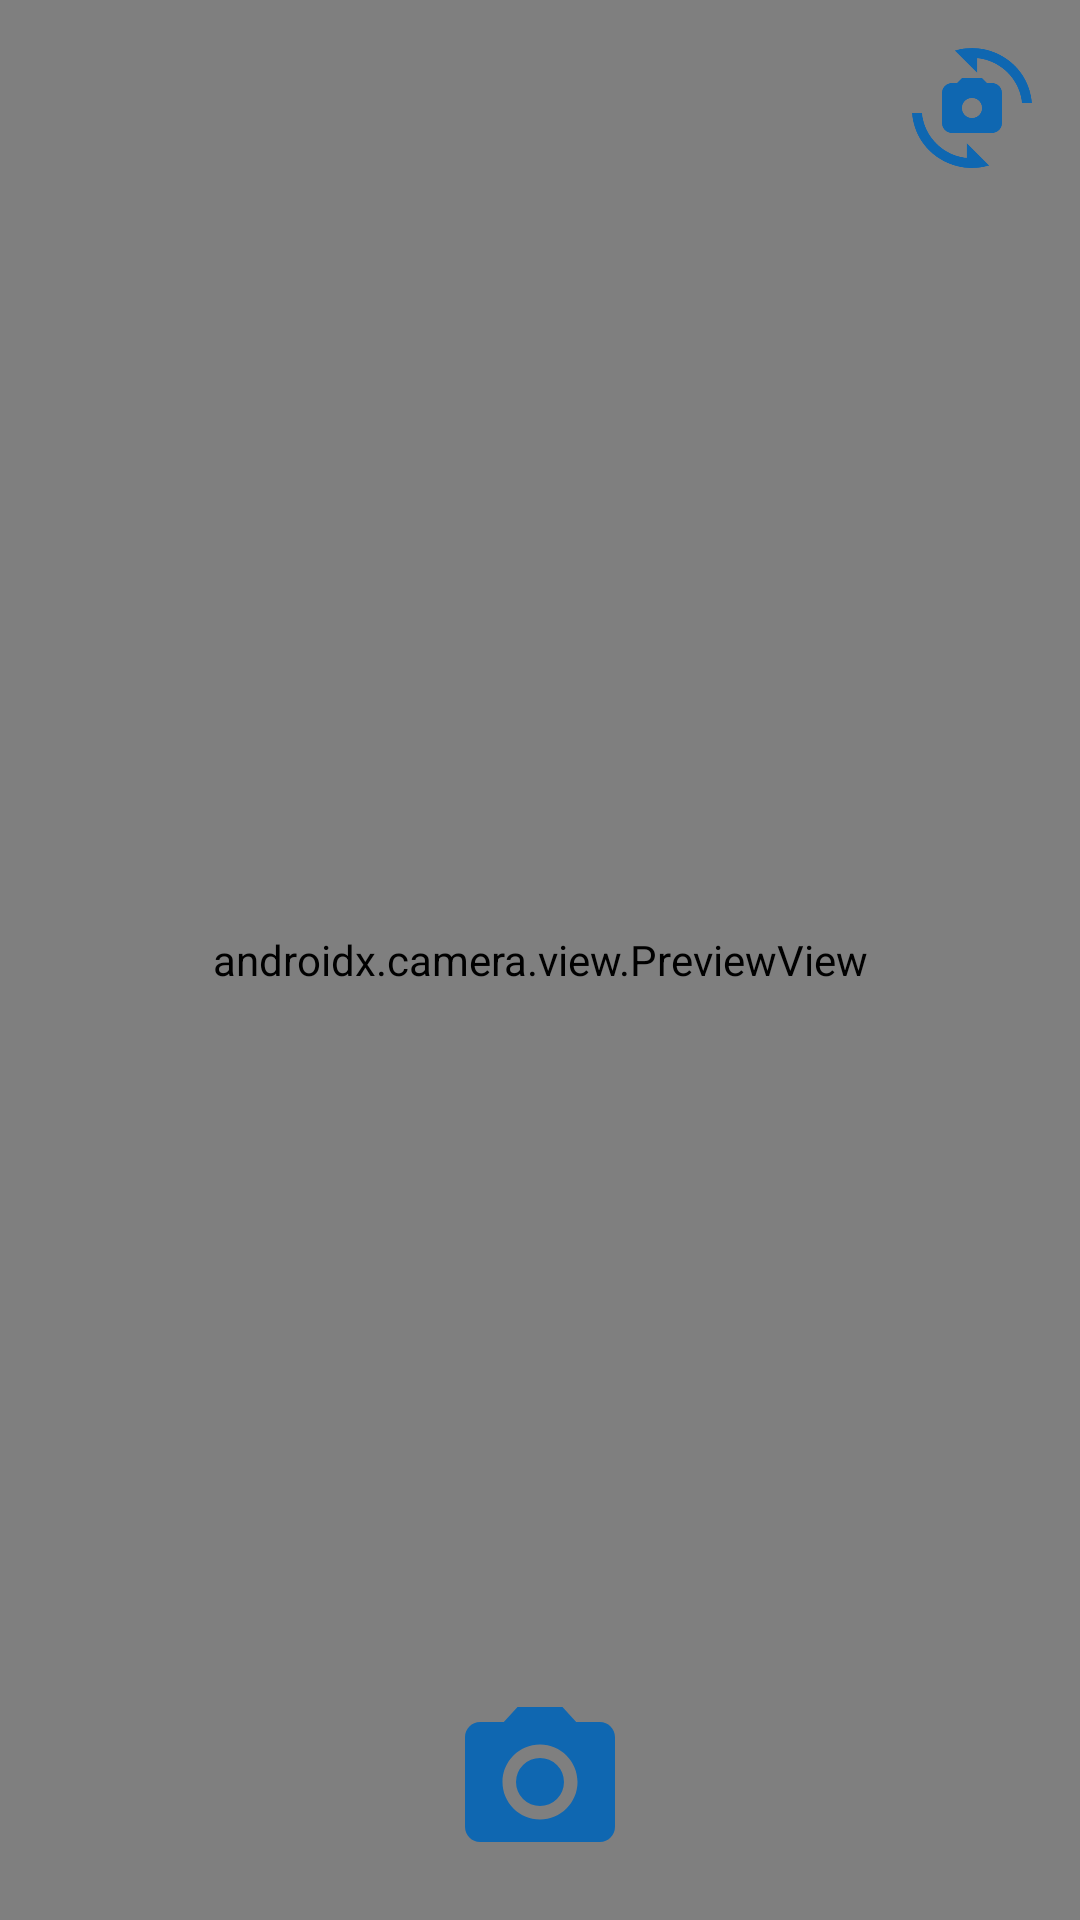

Screen size 1080 x 1920. Icon name, then its center in pixels as point (x, y):
cameraswitch: point (972, 108)
